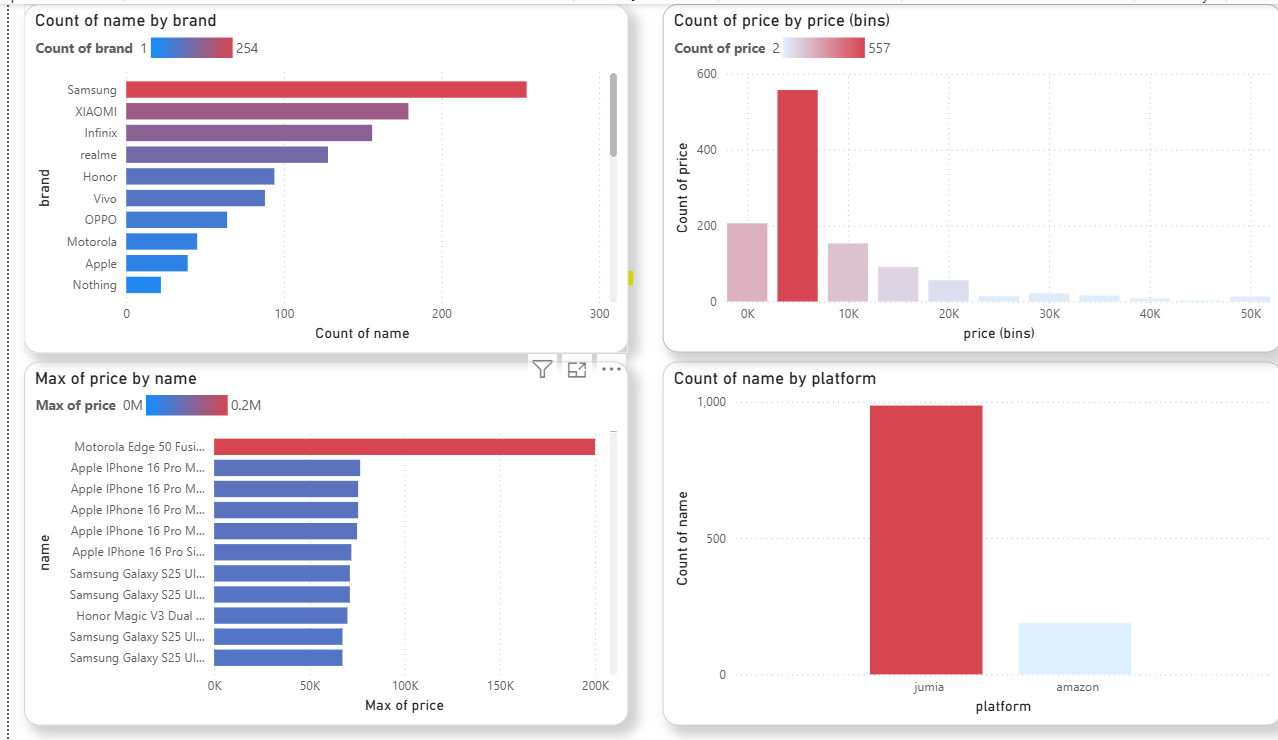

What the dashboard file says about the page in this screenshot:
{"tool":"powerbi","page":{"name":"Market Overview","canvas":[1280,720],"ordinal":0},"visuals":[{"type":"barChart","fields":{"Category":["smartphones.brand"],"Y":["CountNonNull(smartphones.name)"]},"box":[14.3,0,591.4,341.4],"z":0},{"type":"lineStackedColumnComboChart","fields":{"Category":["smartphones.platform"],"Y":["CountNonNull(smartphones.name)"]},"box":[640,350,605.7,355.7],"z":1000},{"type":"barChart","fields":{"Category":["smartphones.name"],"Y":["Max(smartphones.price)"]},"box":[14.3,350,591.4,355.7],"z":2000},{"type":"columnChart","fields":{"Y":["CountNonNull(smartphones.price)"],"Category":["smartphones.price (bins)"]},"box":[639.5,0,605.3,341.2],"z":4000}]}

Visuals, with their boxes in screenshot pixels (x1, y1, x2, y2), scaled from the page's 1280x720 canvas onto the 1278x740 screenshot:
barChart - smartphones.brand x CountNonNull(smartphones.name): 14/0/605/351
lineStackedColumnComboChart - smartphones.platform x CountNonNull(smartphones.name): 639/360/1244/725
barChart - smartphones.name x Max(smartphones.price): 14/360/605/725
columnChart - CountNonNull(smartphones.price) x smartphones.price (bins): 639/0/1243/351
